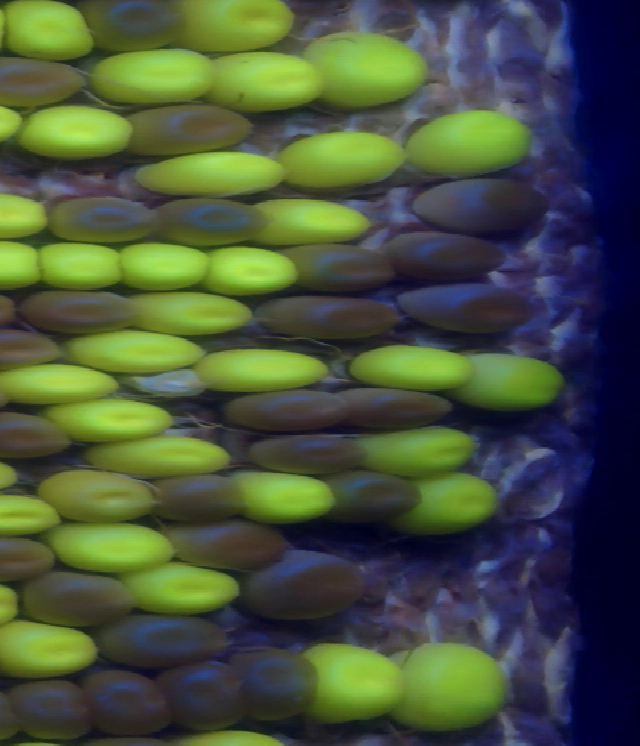fluorescent: (384, 640, 513, 738), (399, 104, 544, 181), (307, 28, 434, 104), (295, 644, 411, 719), (76, 48, 223, 107), (206, 48, 328, 116), (279, 131, 415, 192), (113, 562, 240, 620), (454, 352, 566, 417), (132, 154, 287, 198), (49, 520, 174, 574), (0, 1, 108, 63), (71, 329, 215, 375), (182, 1, 306, 54), (74, 433, 229, 474), (193, 346, 331, 392), (0, 617, 102, 678), (22, 108, 133, 164), (229, 471, 342, 526), (254, 197, 378, 247), (130, 285, 255, 334), (402, 471, 499, 534), (354, 344, 476, 394), (41, 471, 154, 520), (354, 431, 481, 474), (204, 244, 304, 298), (0, 362, 119, 407), (50, 395, 174, 437), (114, 241, 216, 291), (37, 239, 132, 287), (0, 495, 65, 538), (0, 240, 49, 296), (0, 191, 54, 240), (0, 573, 34, 642)
nonfluorescent: (410, 171, 555, 234), (238, 547, 365, 615), (374, 224, 511, 284), (399, 281, 546, 334), (334, 379, 468, 435), (109, 105, 264, 153), (255, 290, 406, 338), (231, 642, 320, 719), (155, 194, 273, 252), (93, 613, 226, 663), (153, 664, 251, 731), (319, 469, 431, 527), (14, 571, 138, 623), (20, 286, 141, 336), (168, 514, 289, 561), (78, 673, 171, 734), (49, 199, 163, 248), (0, 53, 93, 110), (90, 1, 188, 54), (9, 682, 95, 742), (243, 435, 365, 476), (289, 241, 396, 286), (234, 390, 351, 431), (154, 473, 253, 521), (0, 412, 71, 461), (0, 527, 57, 582), (0, 328, 66, 369)
